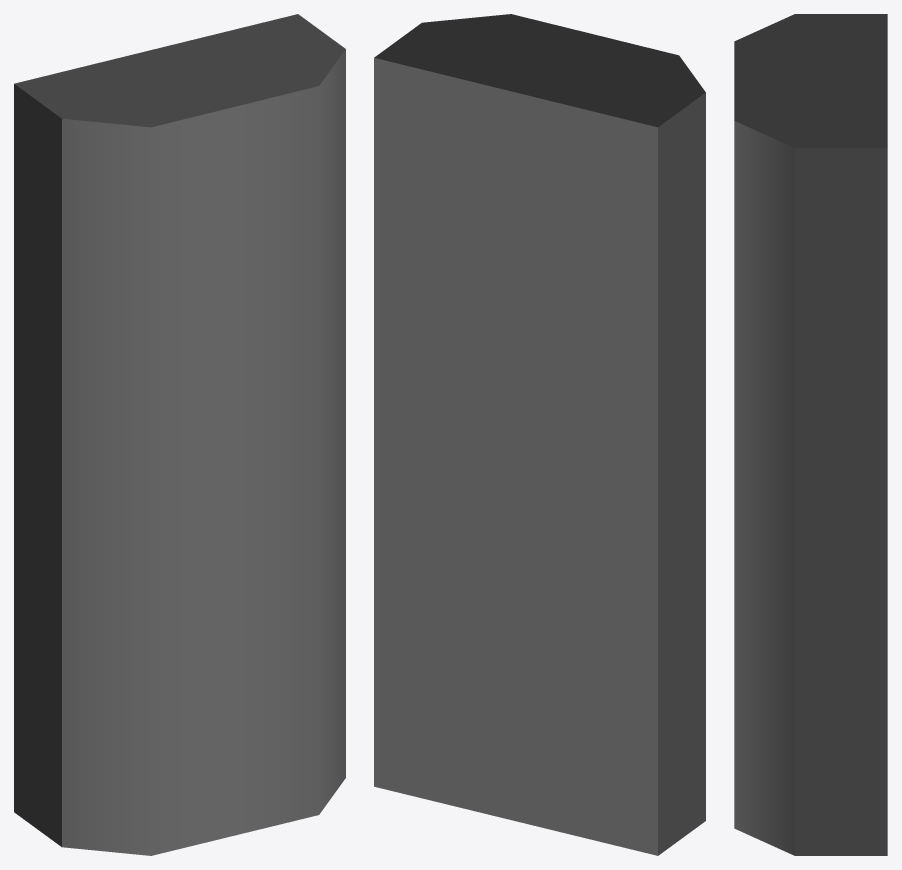
Rendered from ship_tt_01.glb.
The picture shows the model from 3 angles, left to right: view 1: azimuth 30°, elevation 25°; view 2: azimuth 150°, elevation 25°; view 3: azimuth 270°, elevation 25°; orthographic projection. The views are drawn at different scales.
Parts seen in each view (by area): view 1: group_13; view 2: group_13; view 3: group_13.
Boxes of the visible parts, x1,y1,x2,y2 form: group_13: (14, 14, 345, 855); group_13: (374, 14, 705, 855); group_13: (734, 14, 887, 855).
Bounding box in the file's own units: 734 × 1800 × 354.
Materials: 1 (1 with a texture image).
